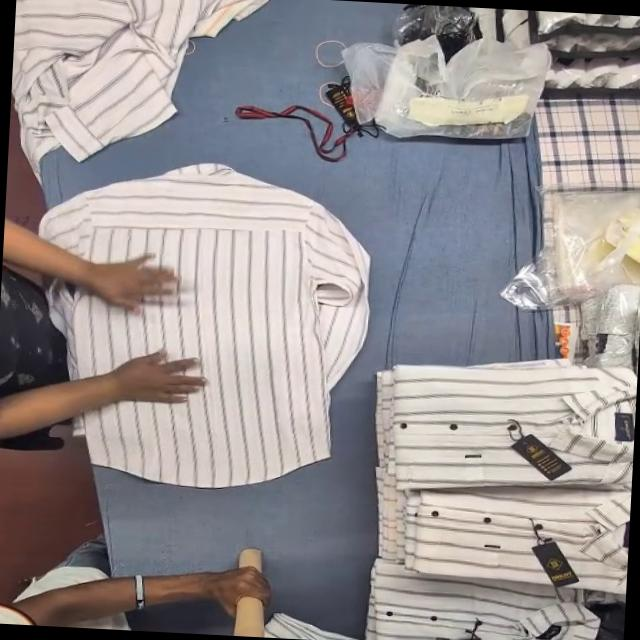new-garment: (40, 164, 369, 488)
